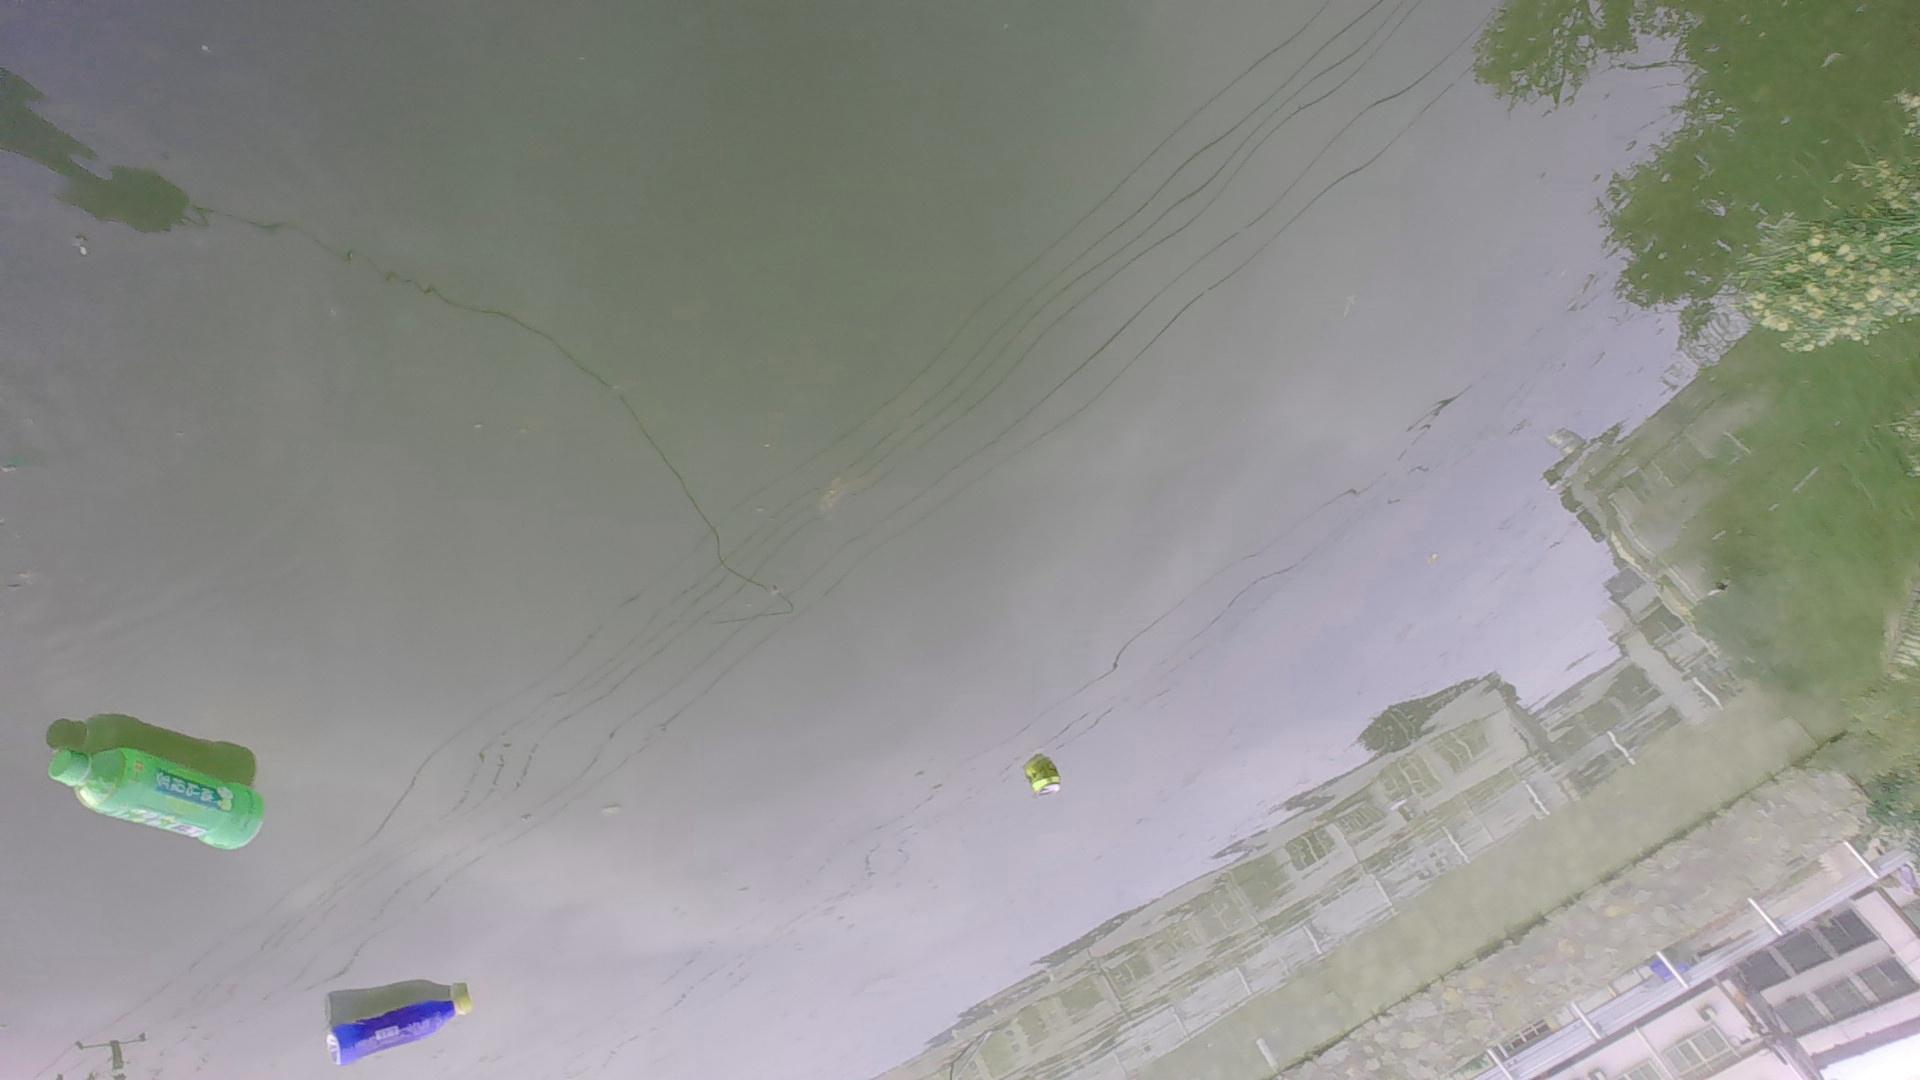Metal: (1017, 750, 1065, 812)
Plastic: (42, 738, 270, 858), (313, 985, 479, 1076)
